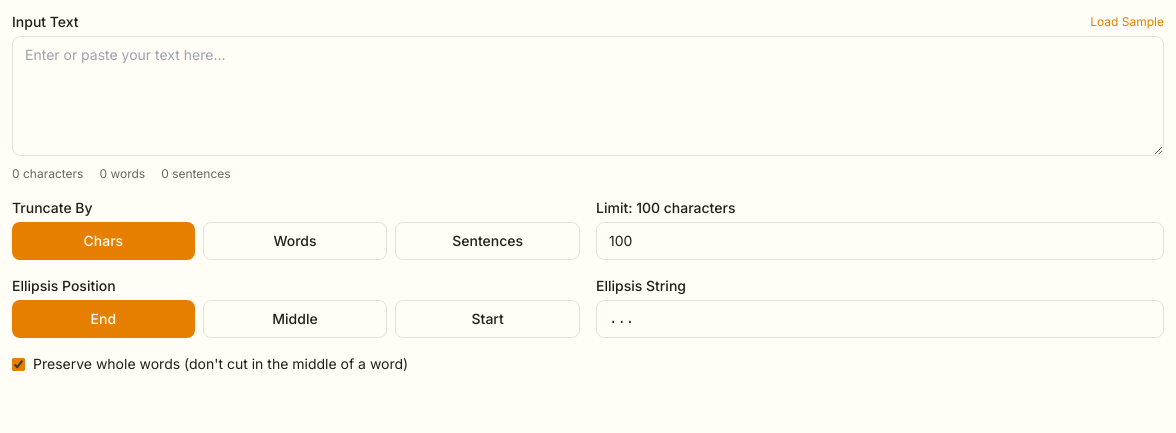
Test: TextTruncator › truncates by word count
Click the button "Words" at (295, 241), box [203,222,387,260]
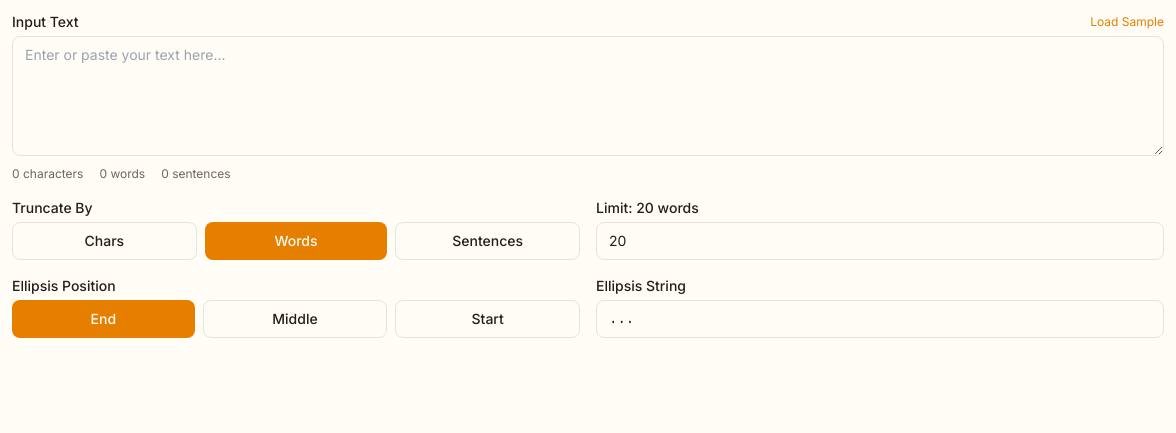
Type "one two three four five six seven eight nine ten" into the text box named "Text input" at (588, 96), box [12,36,1164,156]
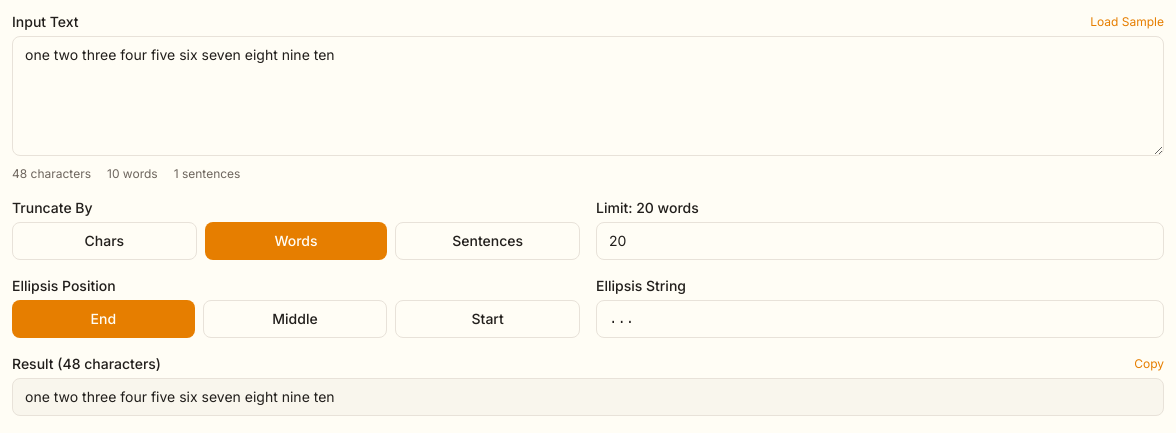
Replace the text in the number field named "Truncation limit" with "3" at (880, 241), box [596,222,1164,260]
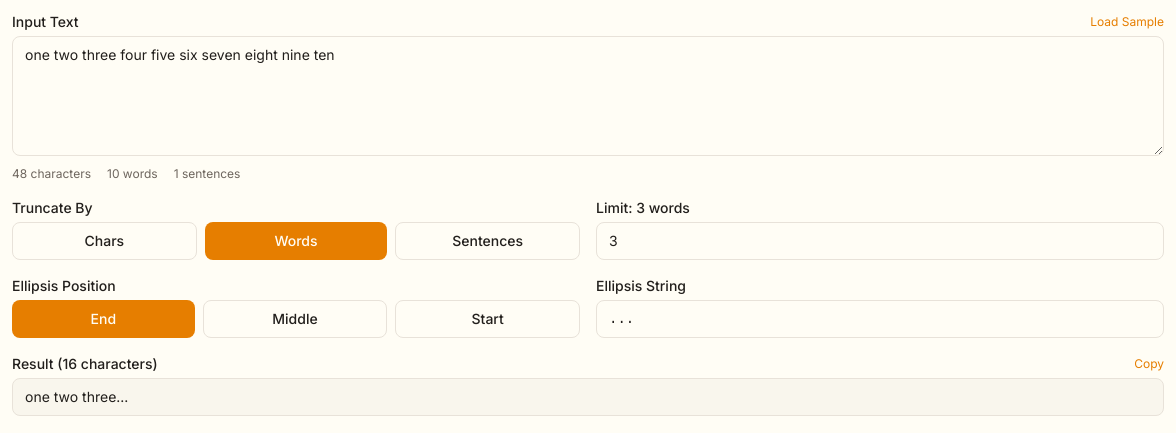
Expected: the text "one two three..." is shown, [12,378,1164,416]
